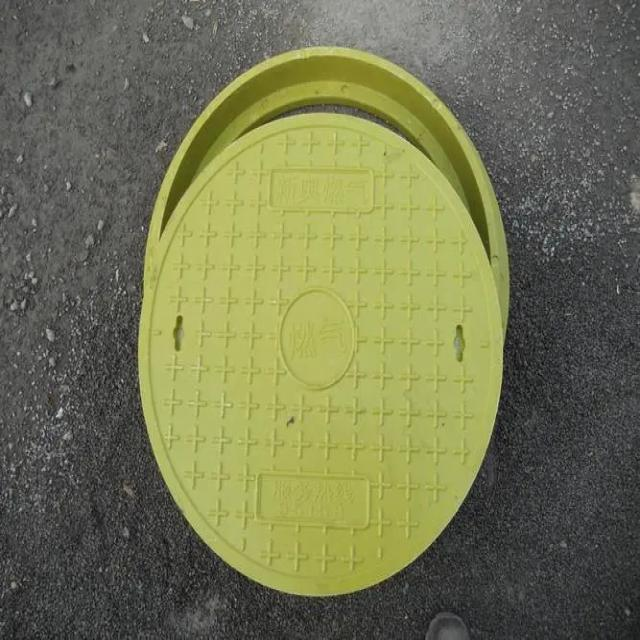manhole: (139, 48, 509, 596)
